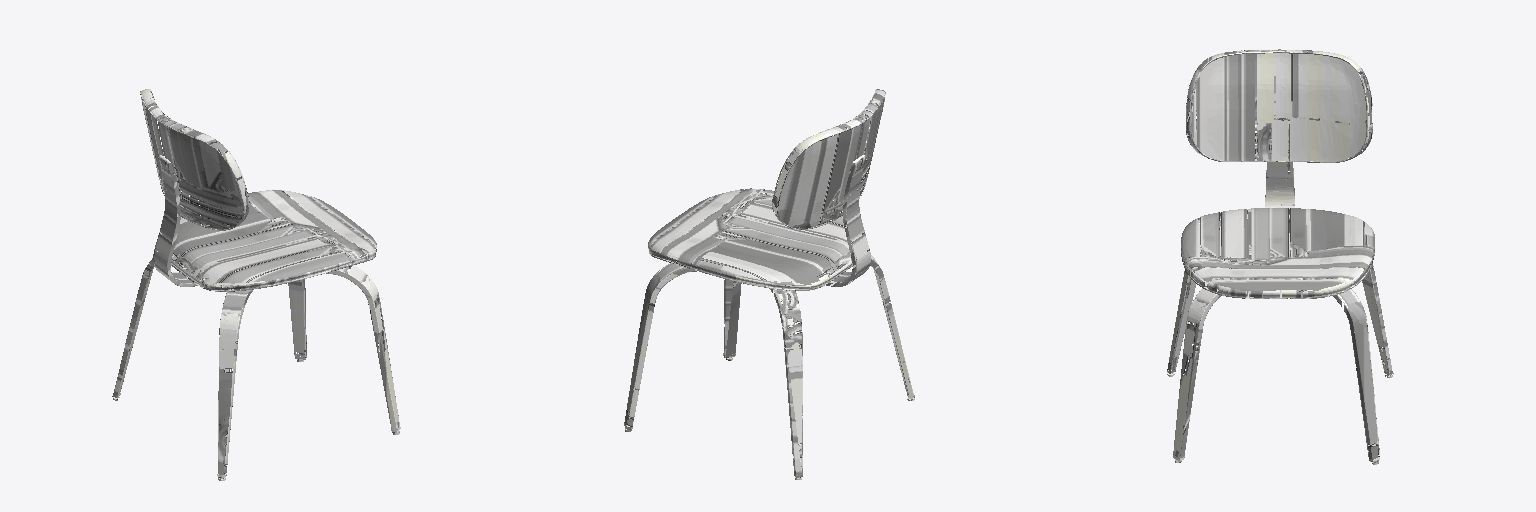
3 views of the same model, side by side, from view 1: azimuth 30°, elevation 25°; view 2: azimuth 150°, elevation 25°; view 3: azimuth 270°, elevation 25° (orthographic).
Parts seen in each view (by area): view 1: solid_001_wire; view 2: solid_001_wire; view 3: solid_001_wire.
Boxes of the visible parts, <box> form: solid_001_wire: <box>112,89,400,480</box>; solid_001_wire: <box>624,89,914,479</box>; solid_001_wire: <box>1167,49,1393,464</box>.
Size of the model in its own units: 0.5407 by 0.8594 by 0.5451.
Materials: 1 (1 with a texture image).